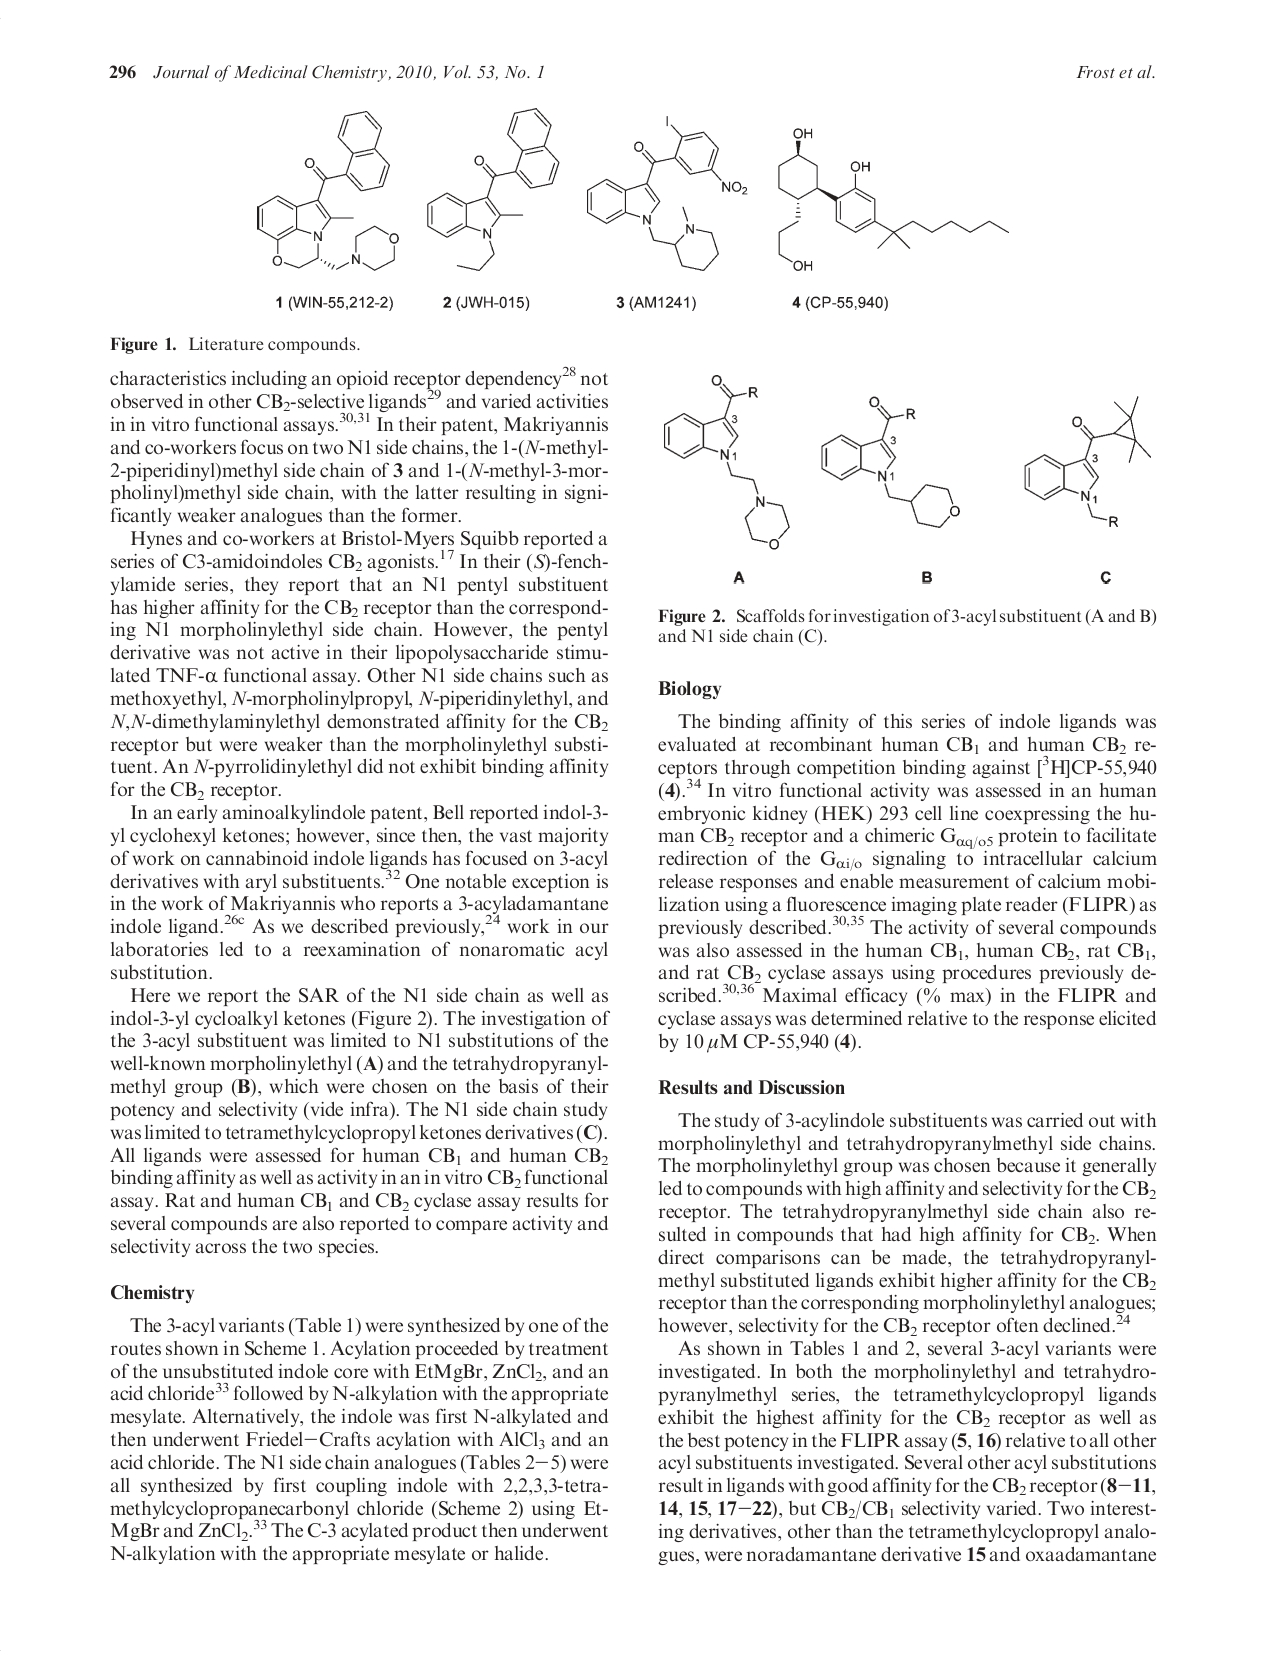exist_molecular: (775, 126, 1011, 274), (586, 110, 750, 274), (253, 109, 402, 274), (664, 372, 794, 552), (423, 105, 561, 273), (819, 394, 965, 531), (1021, 392, 1152, 531)
